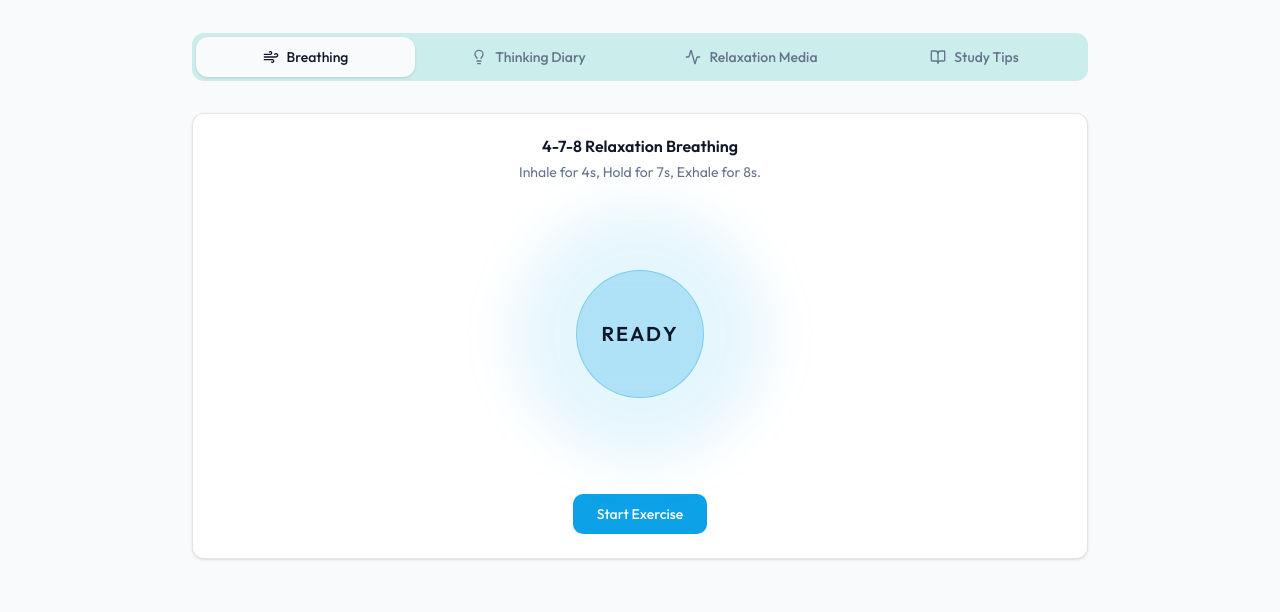
Scenario: app/exercises/cbt-diary › validates required CBT fields, persists journal entry to localStorage, and deletes entry
This screenshot has width=1280, height=612.
Click the tab "Thinking Diary". click: (528, 57)
box: [419,37,638,77]
(page scrolled)
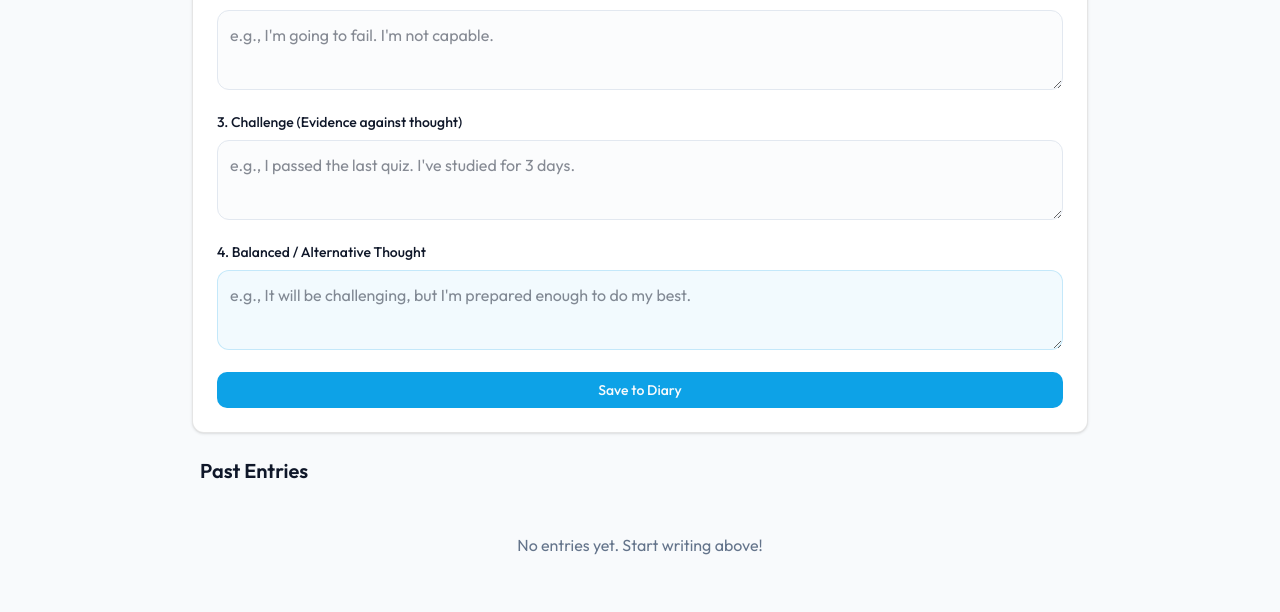
Click the button "Save to Diary". click: (640, 390)
box: [217,372,1063,408]
(page scrolled)
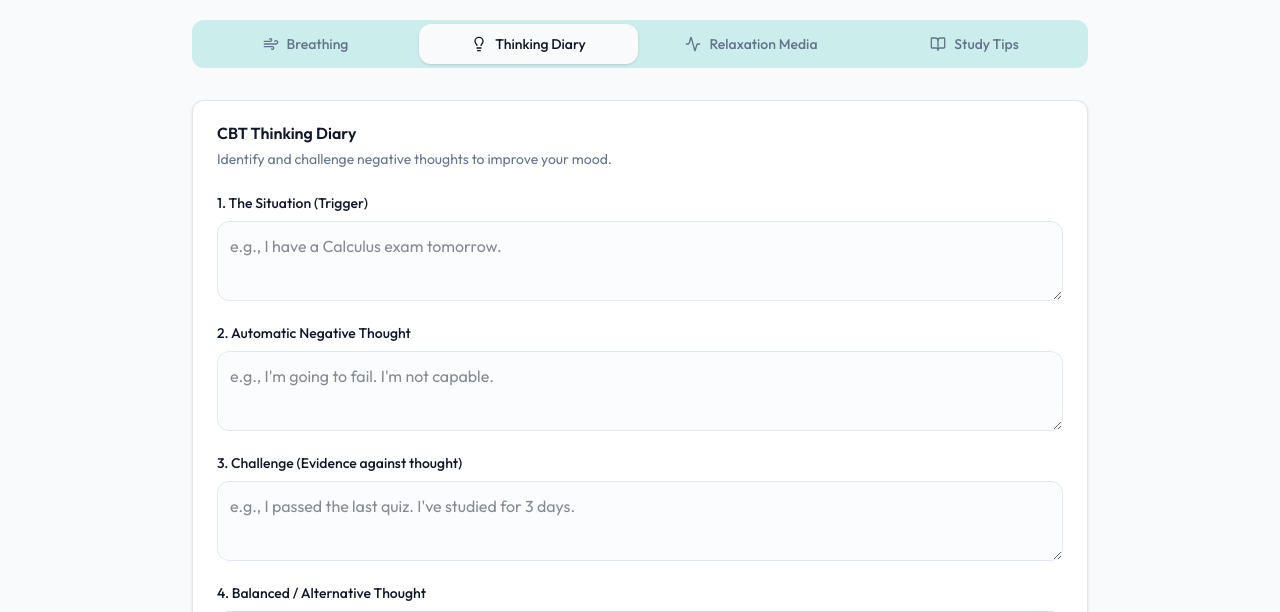
Type "Missed quiz" into the text box labelled "1. The Situation (Trigger)". click: (640, 261)
box: [217,221,1063,301]
Type "I am behind everything" into the text box labelled "2. Automatic Negative Thought". click: (640, 391)
box: [217,351,1063,431]
(page scrolled)
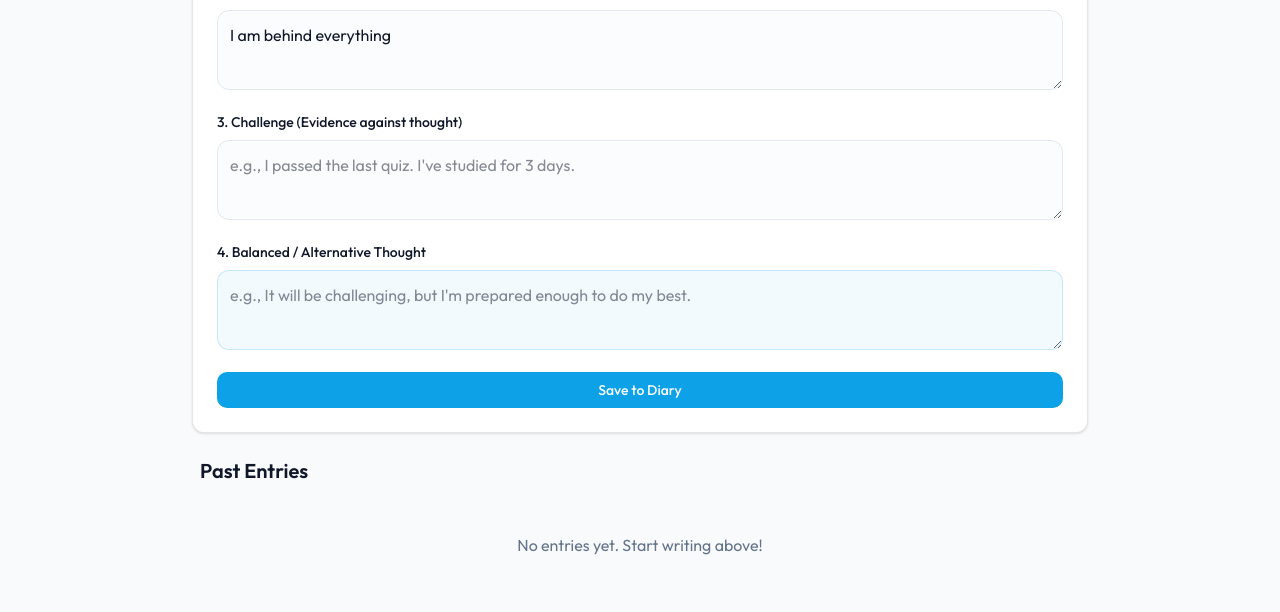
Replace the text in the text box labelled "4. Balanced / Alternative Thought" with "One quiz does not define the course". click: (640, 310)
box: [217,270,1063,350]
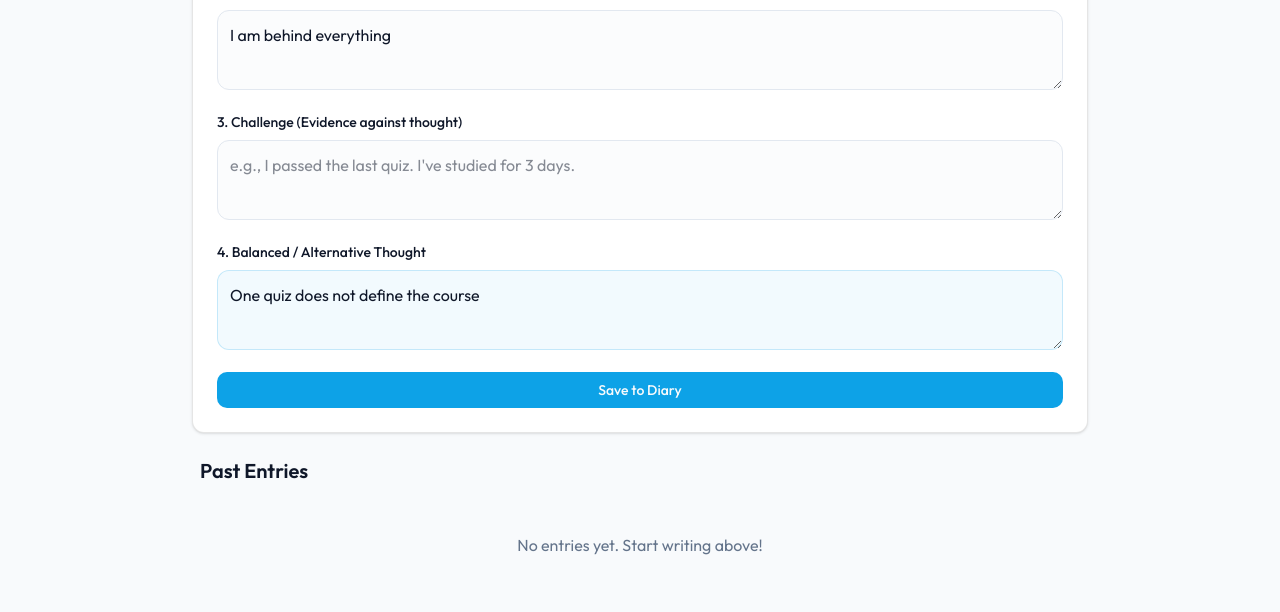
Click the button "Save to Diary". click: (640, 390)
box: [217,372,1063,408]
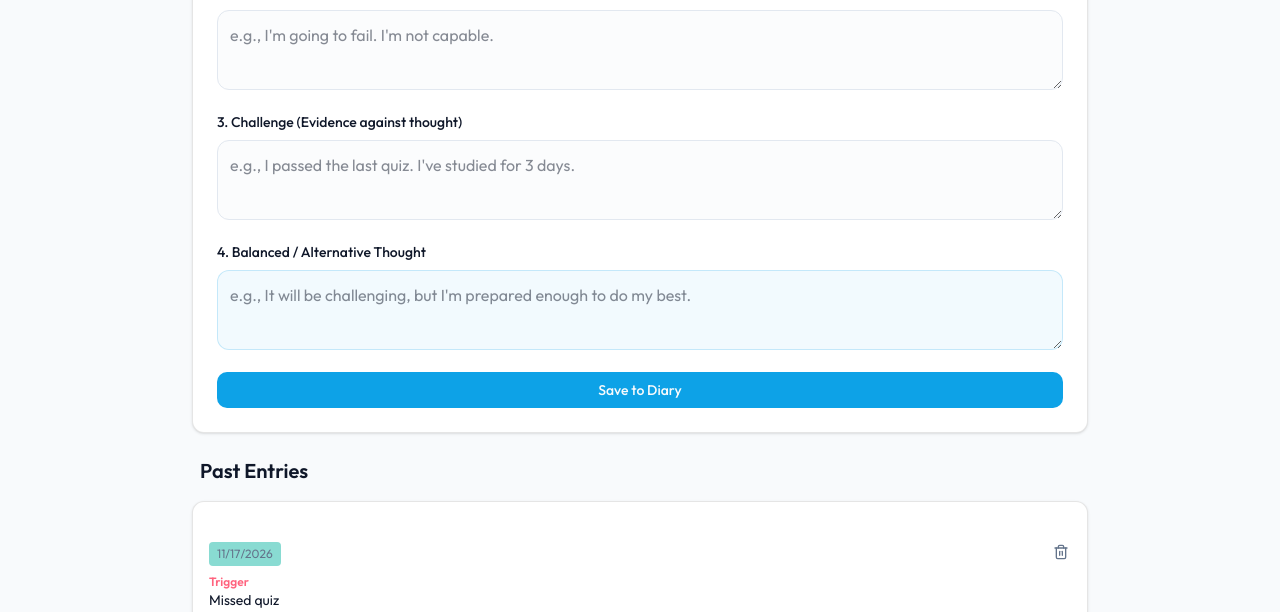
Expected: the text "Missed quiz" is shown, [209,591,279,609]
Click the button named "Delete diary entry". click: (1061, 552)
box: [1047,538,1075,566]
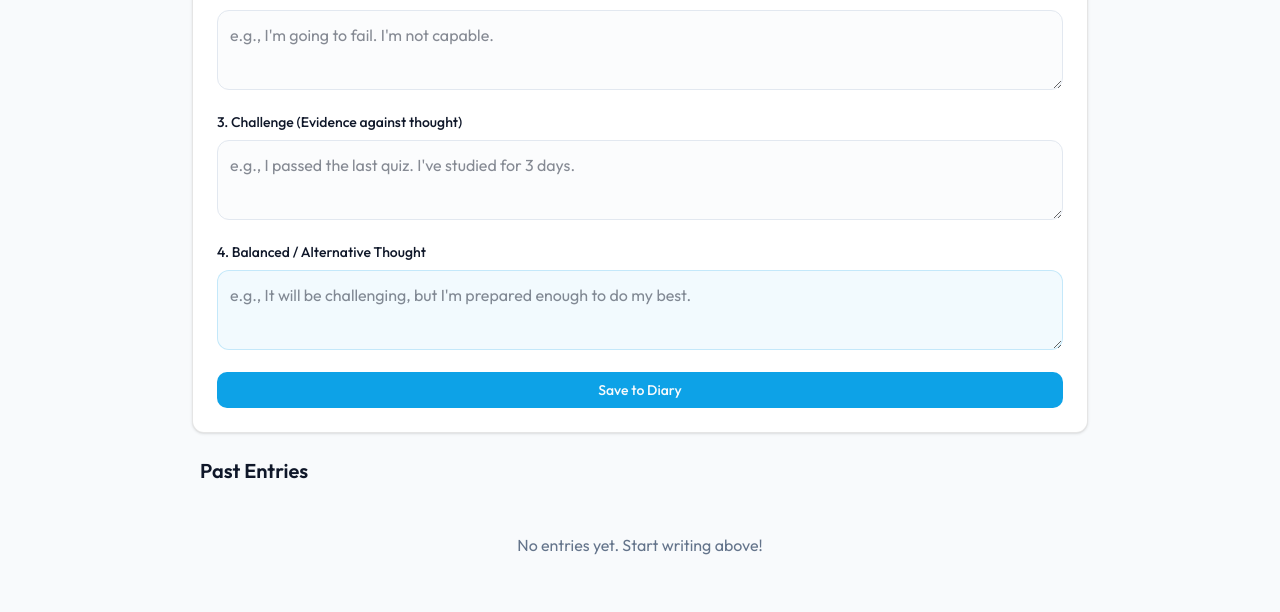
Expected: the text "Missed quiz" is gone
